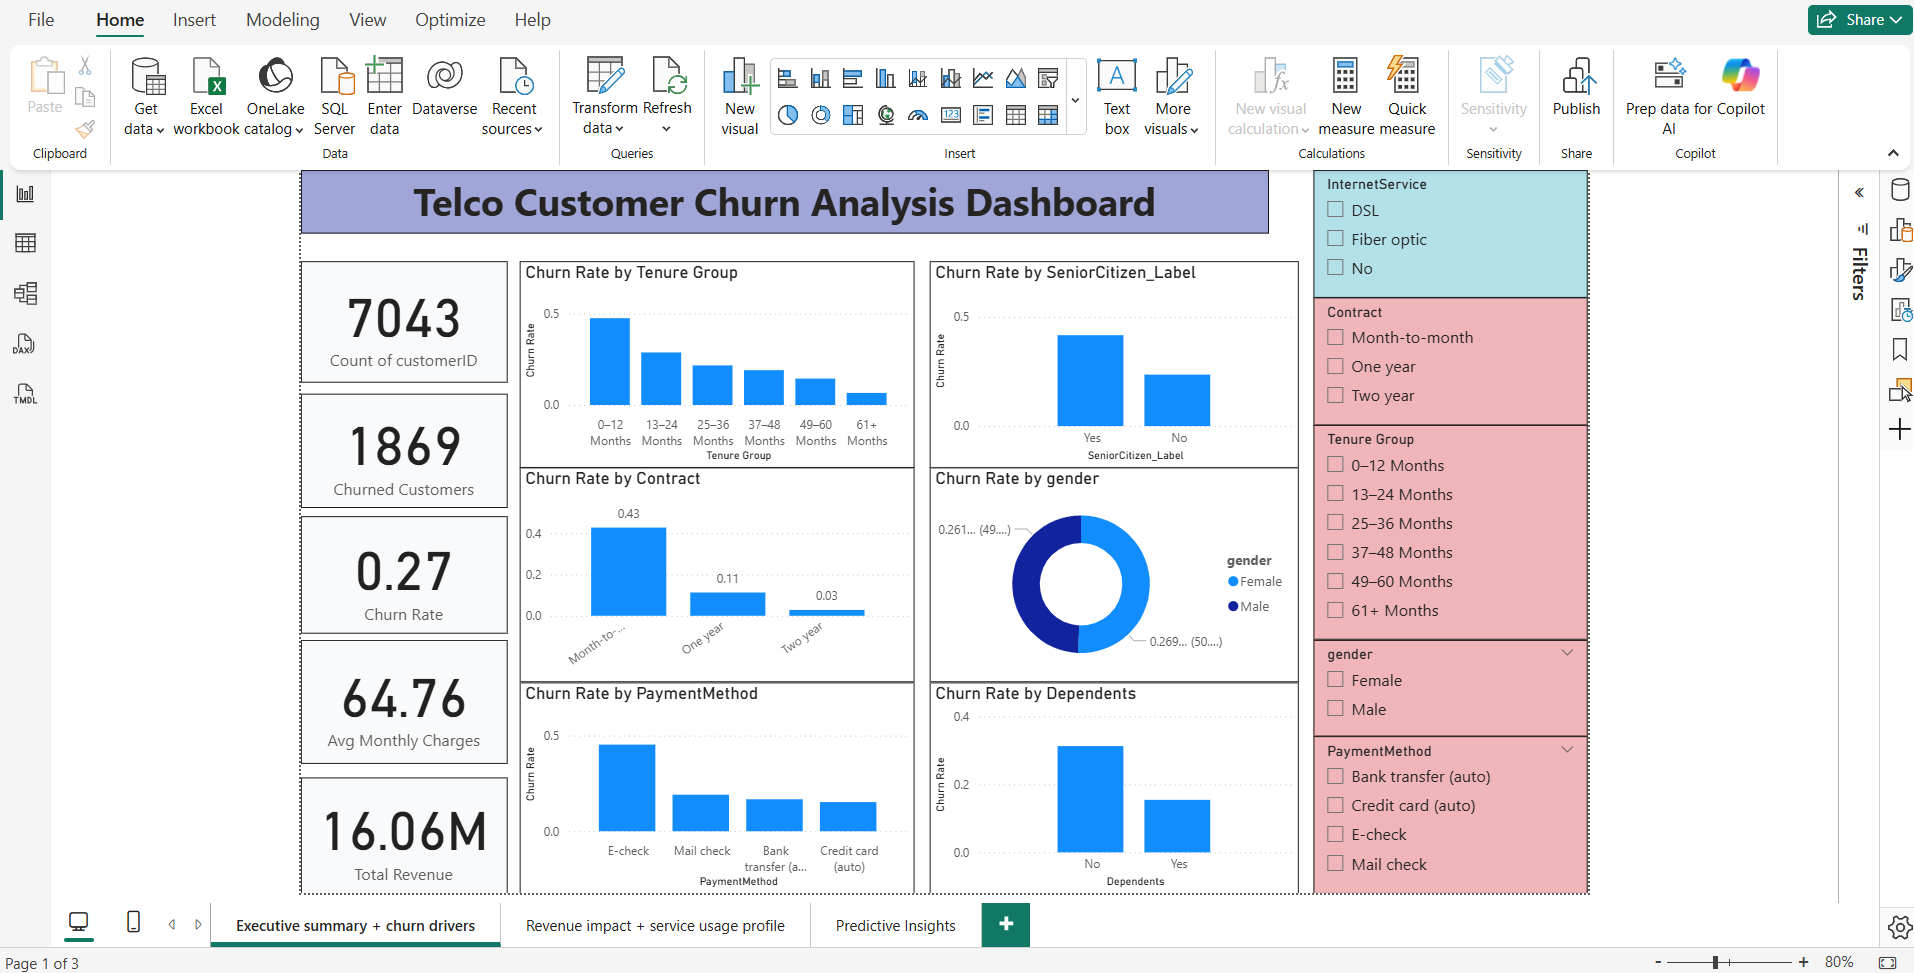

Layout of this report page (visuals, bound fields, positions):
{"tool":"powerbi","page":{"name":"Executive summary + churn drivers","canvas":[1280,720],"ordinal":0},"visuals":[{"type":"card","fields":{"Values":["CountNonNull(Customer.customerID)"]},"box":[0,90.8,205.3,120.7],"z":0},{"type":"card","fields":{"Values":["Customer.Churned Customers"]},"box":[0,222.7,205.3,113.2],"z":1000},{"type":"card","fields":{"Values":["Customer.Churn Rate"]},"box":[0,344.6,205.3,116.9],"z":2000},{"type":"card","fields":{"Values":["Customer.Avg Monthly Charges"]},"box":[0,467.7,205.3,123.2],"z":3000},{"type":"card","fields":{"Values":["Customer.Total Revenue"]},"box":[0,604.6,205.3,115.7],"z":4000},{"type":"clusteredColumnChart","fields":{"Category":["Customer.Contract"],"Y":["Customer.Churn Rate"]},"box":[217.7,296.1,393.1,214],"z":5000},{"type":"clusteredColumnChart","fields":{"Category":["Customer.Tenure Group"],"Y":["Customer.Churn Rate"]},"box":[217.7,90.8,393.1,205.3],"z":6000},{"type":"clusteredColumnChart","fields":{"Category":["Customer.PaymentMethod"],"Y":["Customer.Churn Rate"]},"box":[217.7,510,393.1,210.2],"z":7000},{"type":"clusteredColumnChart","fields":{"Category":["Customer.SeniorCitizen_Label"],"Y":["Customer.Churn Rate"]},"box":[625.7,90.8,367,205.3],"z":8000},{"type":"donutChart","fields":{"Category":["Customer.gender"],"Y":["Customer.Churn Rate"]},"box":[625.7,296.1,367,214],"z":9000},{"type":"clusteredColumnChart","fields":{"Category":["Customer.Dependents"],"Y":["Customer.Churn Rate"]},"box":[625.7,510,367,210.2],"z":10000},{"type":"slicer","fields":{"Values":["Customer.Contract"]},"box":[1007.6,126.9,272.4,126.9],"z":11000},{"type":"slicer","fields":{"Values":["Customer.Tenure Group"]},"box":[1007.6,253.8,272.4,214],"z":12000},{"type":"slicer","fields":{"Values":["Customer.gender"]},"box":[1007.6,467.7,272.4,95.8],"z":13000},{"type":"slicer","fields":{"Values":["Customer.PaymentMethod"]},"box":[1007.6,563.5,272.4,156.7],"z":14000},{"type":"slicer","fields":{"Values":["Customer.InternetService"]},"box":[1007.6,0,272.4,126.9],"z":15000},{"type":"textbox","box":[0,0,962.8,63.4],"z":16000}]}

Visuals, with their boxes on the page's 1280x720 design canvas (x1, y1, x2, y2). These are canvas units, not pixel positions in the 1914x973 screenshot, which may show the page scaled, cropped or inside an application window:
card - CountNonNull(Customer.customerID): (0, 91, 205, 212)
card - Customer.Churned Customers: (0, 223, 205, 336)
card - Customer.Churn Rate: (0, 345, 205, 462)
card - Customer.Avg Monthly Charges: (0, 468, 205, 591)
card - Customer.Total Revenue: (0, 605, 205, 720)
clusteredColumnChart - Customer.Contract x Customer.Churn Rate: (218, 296, 611, 510)
clusteredColumnChart - Customer.Tenure Group x Customer.Churn Rate: (218, 91, 611, 296)
clusteredColumnChart - Customer.PaymentMethod x Customer.Churn Rate: (218, 510, 611, 720)
clusteredColumnChart - Customer.SeniorCitizen_Label x Customer.Churn Rate: (626, 91, 993, 296)
donutChart - Customer.gender x Customer.Churn Rate: (626, 296, 993, 510)
clusteredColumnChart - Customer.Dependents x Customer.Churn Rate: (626, 510, 993, 720)
slicer - Customer.Contract: (1008, 127, 1280, 254)
slicer - Customer.Tenure Group: (1008, 254, 1280, 468)
slicer - Customer.gender: (1008, 468, 1280, 564)
slicer - Customer.PaymentMethod: (1008, 564, 1280, 720)
slicer - Customer.InternetService: (1008, 0, 1280, 127)
textbox: (0, 0, 963, 63)
